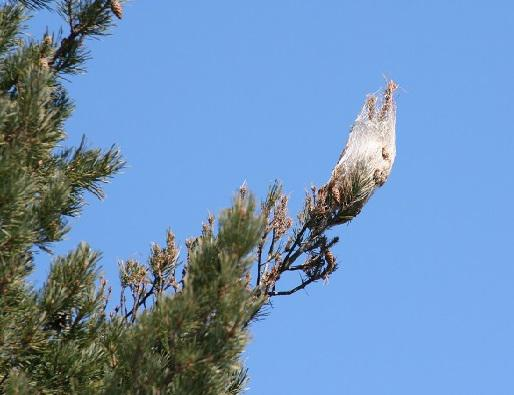thaumatopoea pityocampa jajno gnijezdo: (321, 80, 404, 222)
